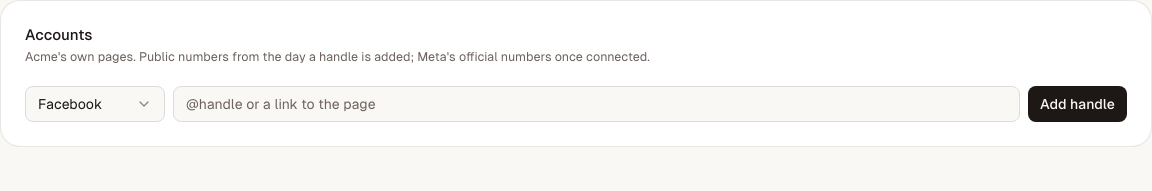
Scenario: adding a handle › says when the account is already on this brand
Type "acmekenya" into the field named "Handle or link" at (597, 104), box [173,86,1020,122]
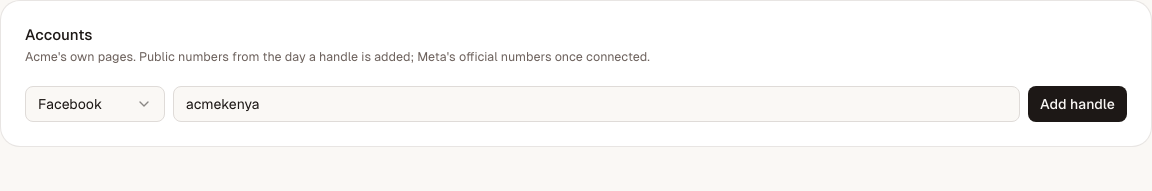
Click the button "Add handle" at (1078, 104), box [1028,86,1127,122]
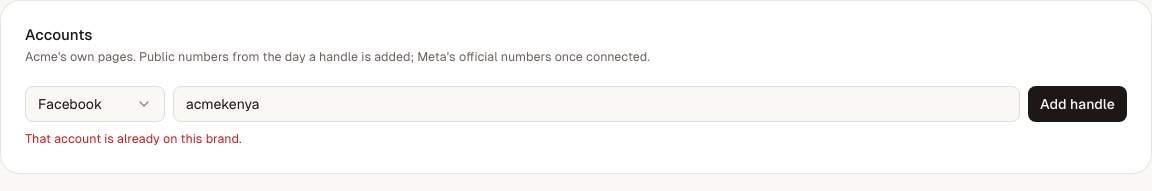
Result: the message reads "That account is already on this brand." at [25,131,241,146]
